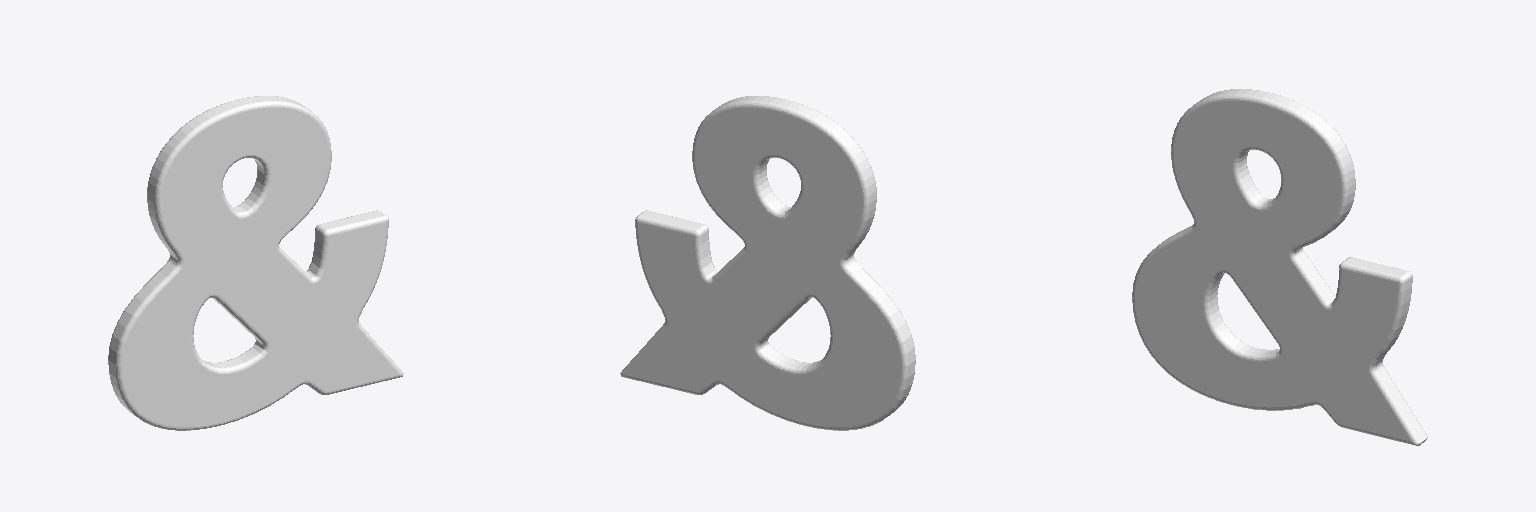
File: Amper.obj
3 renders of one model, left to right at view 1: azimuth 30°, elevation 25°; view 2: azimuth 150°, elevation 25°; view 3: azimuth 330°, elevation 25°, orthographic.
Parts seen in each view (by area): view 1: node_id379_mesh_id380; view 2: node_id379_mesh_id380; view 3: node_id379_mesh_id380.
Boxes of the visible parts, x1=… form: node_id379_mesh_id380: x1=108, y1=96, x2=403, y2=430; node_id379_mesh_id380: x1=620, y1=96, x2=915, y2=430; node_id379_mesh_id380: x1=1132, y1=89, x2=1427, y2=445.
Size of the model in its own units: 0.4903 by 0.512 by 0.0343.